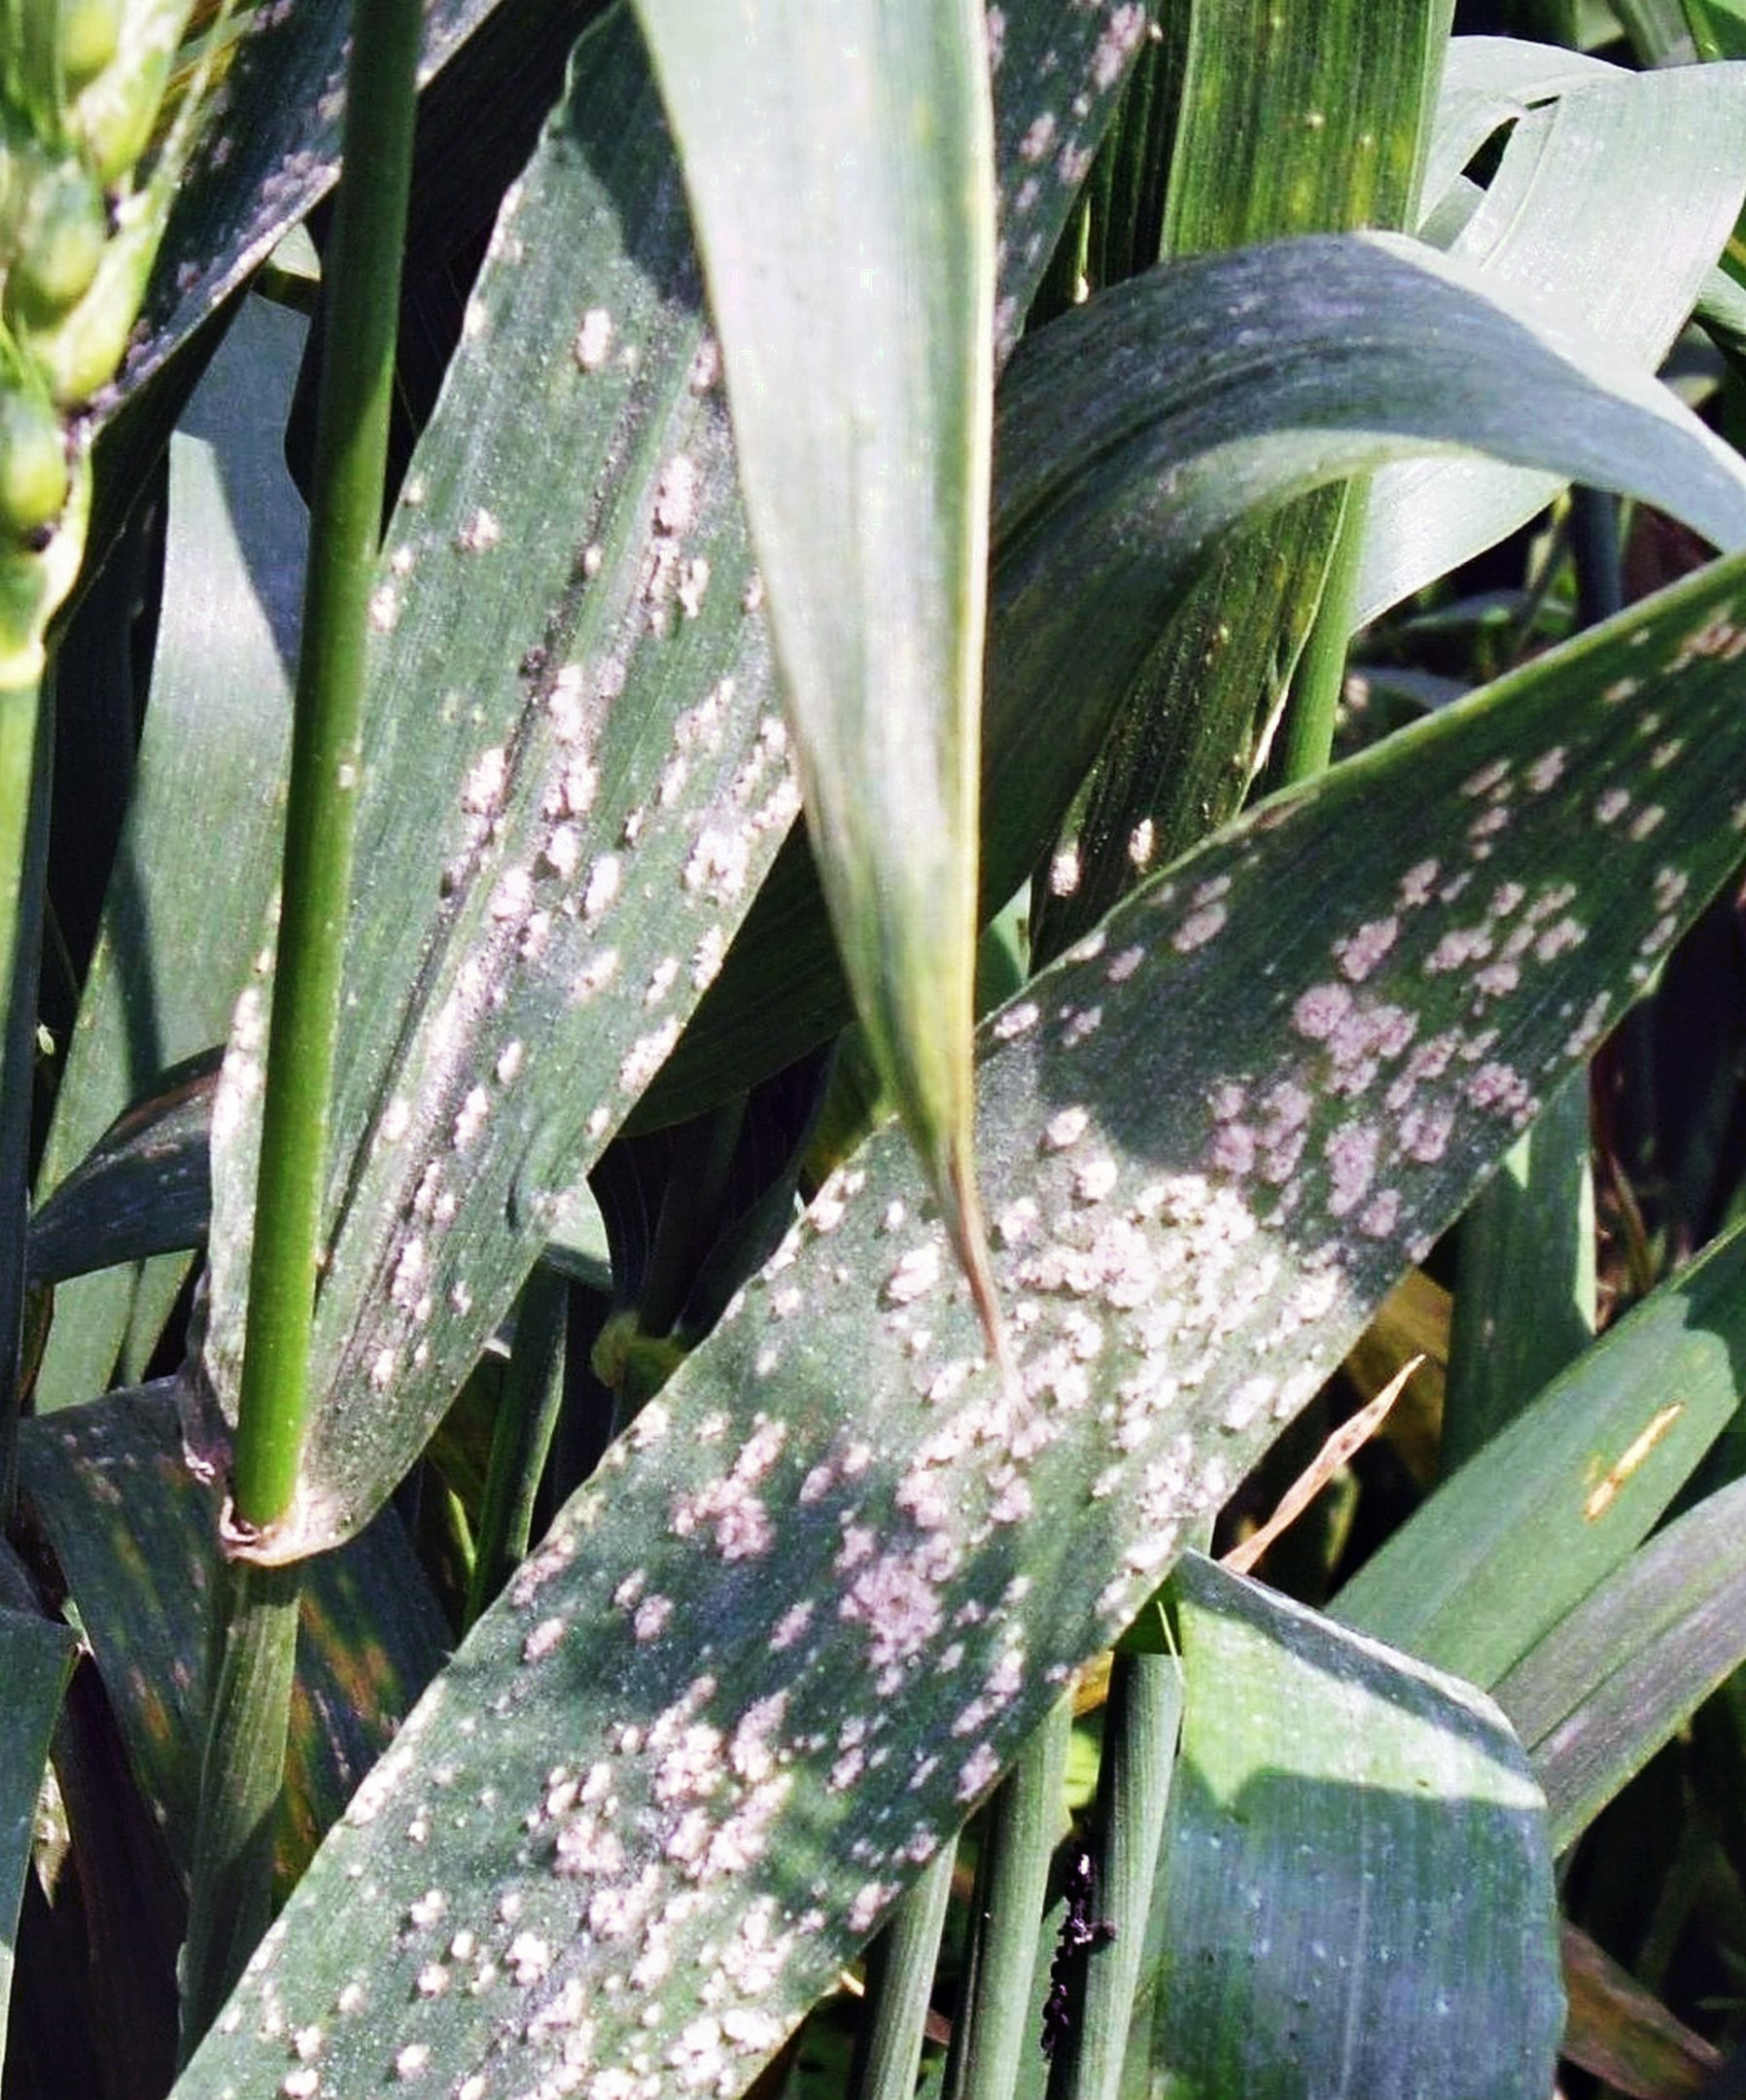Powdery Mildew: (447, 685, 1690, 2077)
